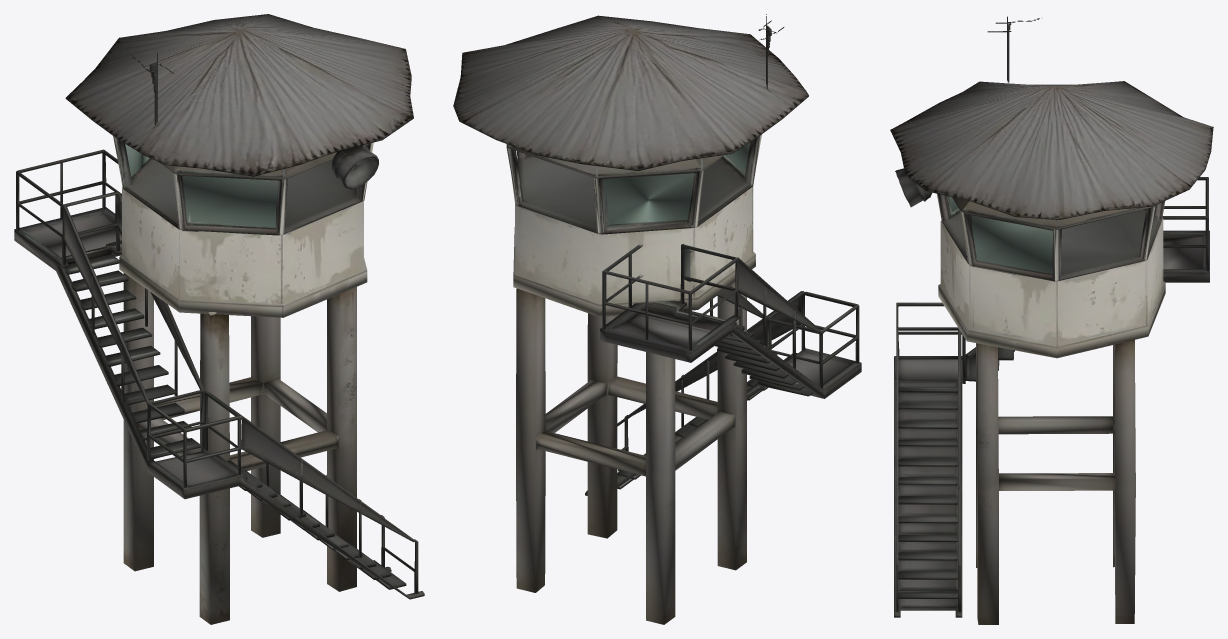
The model's file is penitenciaria_guarita.glb.
3 views of the same model, side by side, from view 1: azimuth 30°, elevation 25°; view 2: azimuth 150°, elevation 25°; view 3: azimuth 270°, elevation 25° (orthographic). The views are drawn at different scales.
Visible parts, largest first — view 1: Weathered Searchlight Guarita; view 2: Weathered Searchlight Guarita; view 3: Weathered Searchlight Guarita.
Boxes of the visible parts, x1,y1,x2,y2 form: Weathered Searchlight Guarita: [14, 14, 424, 624]; Weathered Searchlight Guarita: [453, 14, 861, 624]; Weathered Searchlight Guarita: [890, 16, 1213, 624].
Bounding box in the file's own units: 0.5684 × 0.998 × 0.5527.
1 material, 1 textured.
